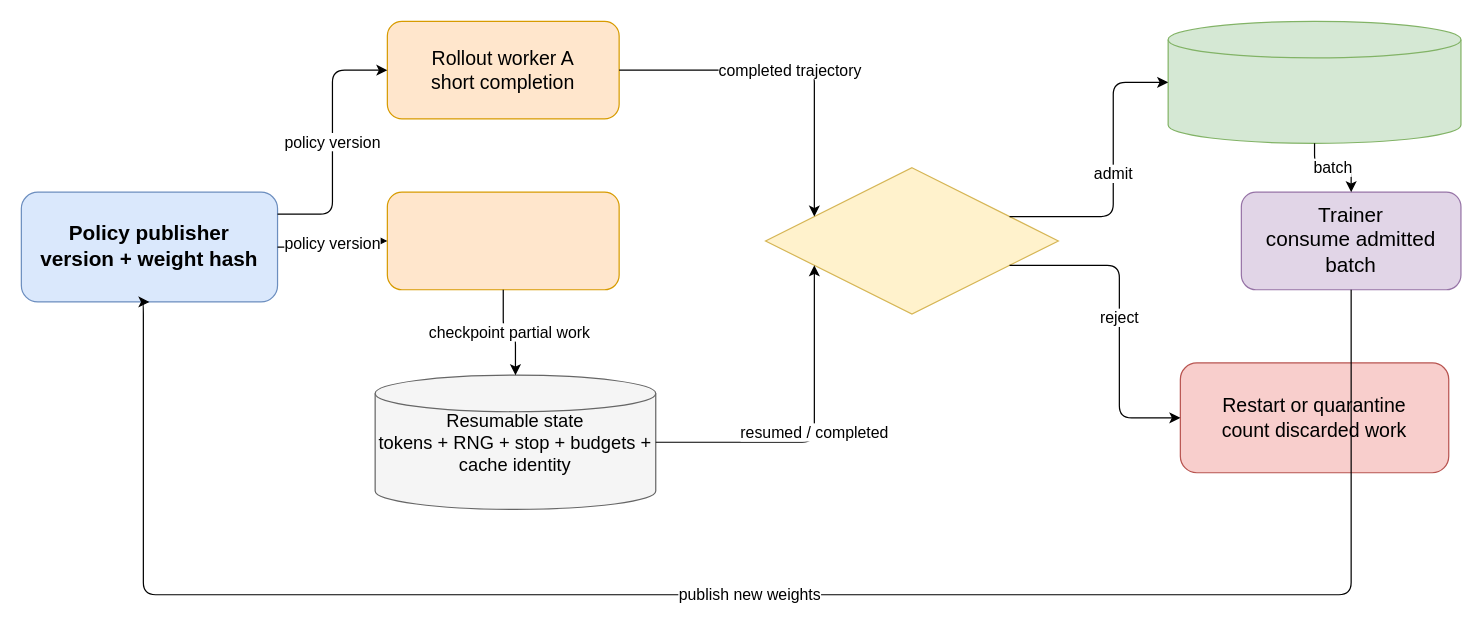
The diagram is 1482 pixels wide and 626 high, and some of its shapes have lost their labels. Here are the shapes that lost their labels. From the top down, the centre of each, then its label:
(x=1314, y=81): Accepted experience exact actions + behavior log probabilities
(x=502, y=240): Rollout worker B long partial completion
(x=911, y=240): Admission check fresh? complete? one behavior identity?
